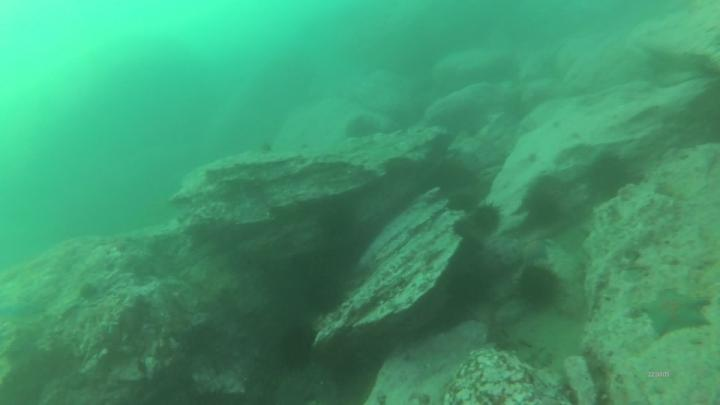echinus: (514, 263, 565, 319), (282, 323, 318, 377), (304, 275, 342, 315), (591, 153, 629, 191), (469, 201, 504, 238), (343, 116, 381, 141), (452, 215, 481, 242), (446, 191, 478, 213)
starfish: (640, 287, 716, 338)
